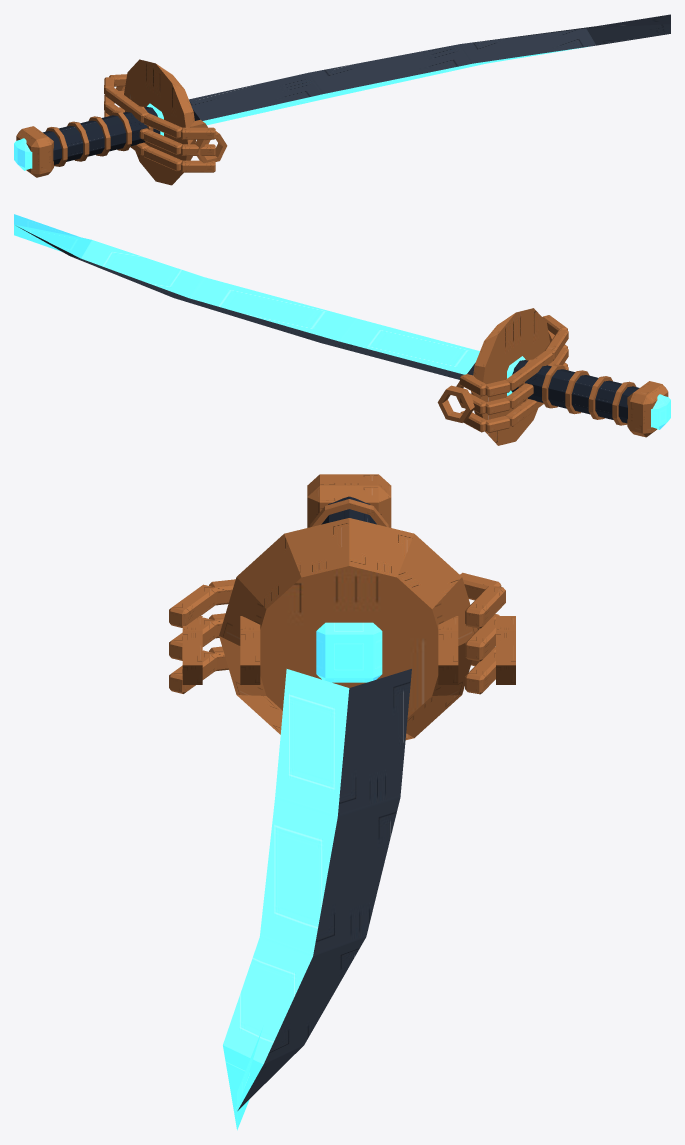
Rendered from stormsabre.glb.
The picture shows the model from 3 angles, top to bottom: view 1: azimuth 30°, elevation 25°; view 2: azimuth 150°, elevation 25°; view 3: azimuth 270°, elevation 25°; orthographic projection. The views are drawn at different scales.
Parts seen in each view (by area): view 1: blade, guard, grip; view 2: blade, guard, grip; view 3: guard, blade, grip.
Part boxes in pixels (x1,y1,x2,y2): blade: (189, 14, 670, 125); guard: (104, 59, 227, 185); grip: (14, 106, 160, 177); blade: (14, 214, 479, 379); guard: (437, 308, 568, 445); grip: (511, 359, 670, 437); guard: (169, 518, 515, 739); blade: (223, 669, 411, 1130); grip: (307, 474, 391, 527).
Bounding box in the file's own units: 0.8755 × 0.158 × 0.2103.
Materials: 4 (4 with a texture image).
